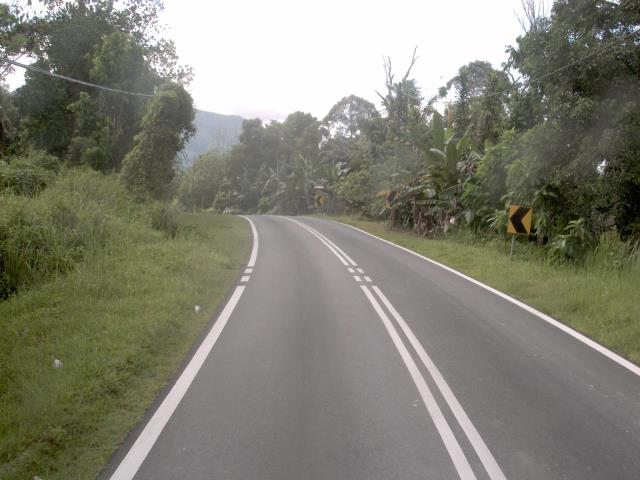traffic_sign: (502, 198, 538, 242)
